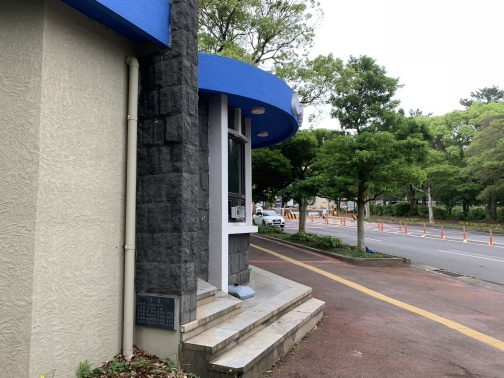Security Office: (118, 29, 326, 378)
